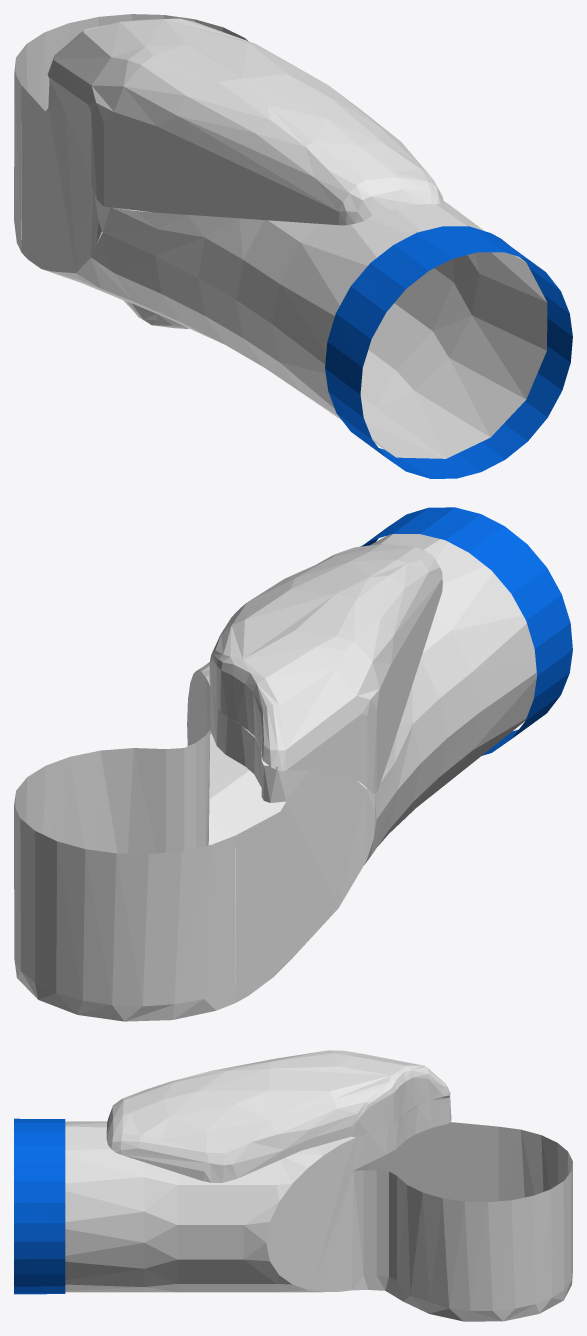
File: LARM_LINK2_mesh.dae
The picture shows the model from 3 angles, top to bottom: view 1: azimuth 30°, elevation 25°; view 2: azimuth 150°, elevation 25°; view 3: azimuth 270°, elevation 25°; orthographic projection. The views are drawn at different scales.
Visible parts, largest first — view 1: LARM_LINK2 (×4); view 2: LARM_LINK2 (×4); view 3: LARM_LINK2 (×4).
Boxes of the visible parts, x1,y1,x2,y2 form: LARM_LINK2 (×4): [14, 14, 572, 478]; LARM_LINK2 (×4): [14, 507, 572, 1021]; LARM_LINK2 (×4): [14, 1050, 572, 1321].
Size of the model in its own units: 0.092 by 0.1035 by 0.2509.
